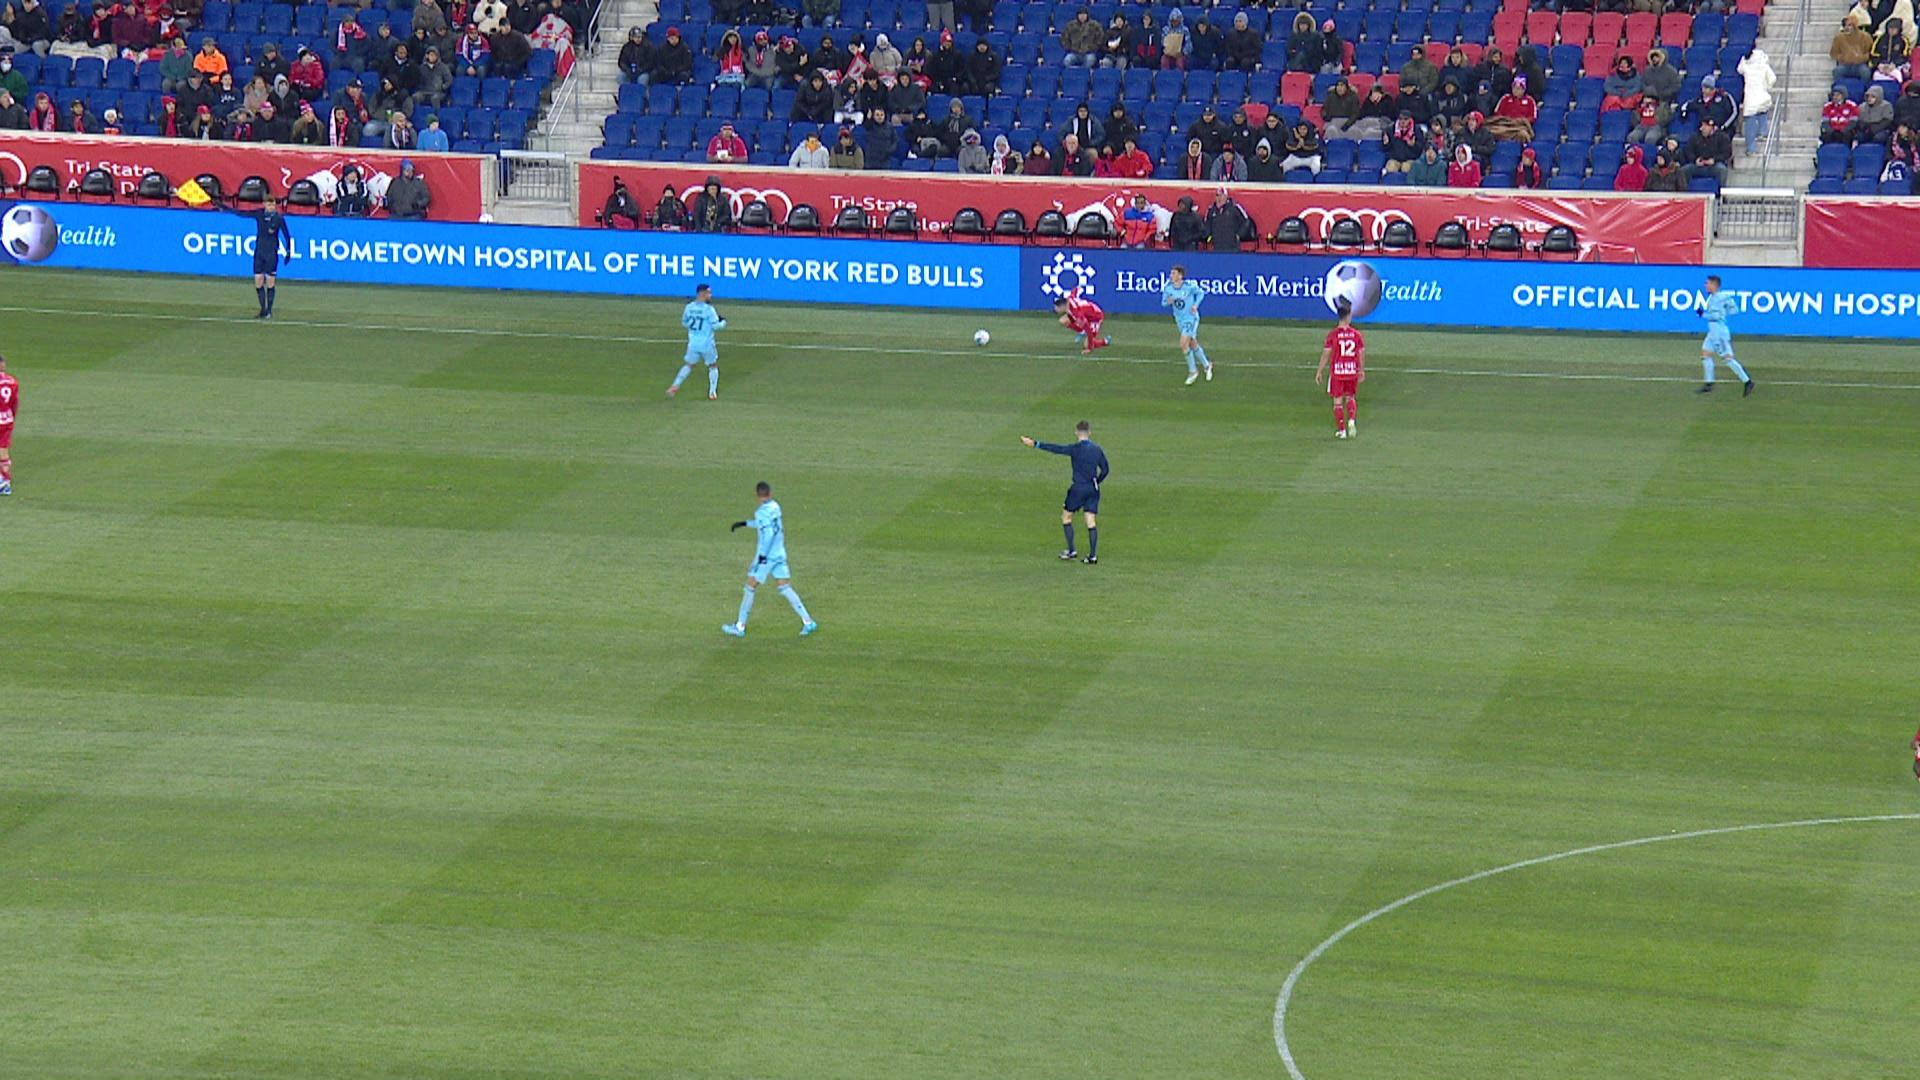football: (973, 328, 990, 347)
